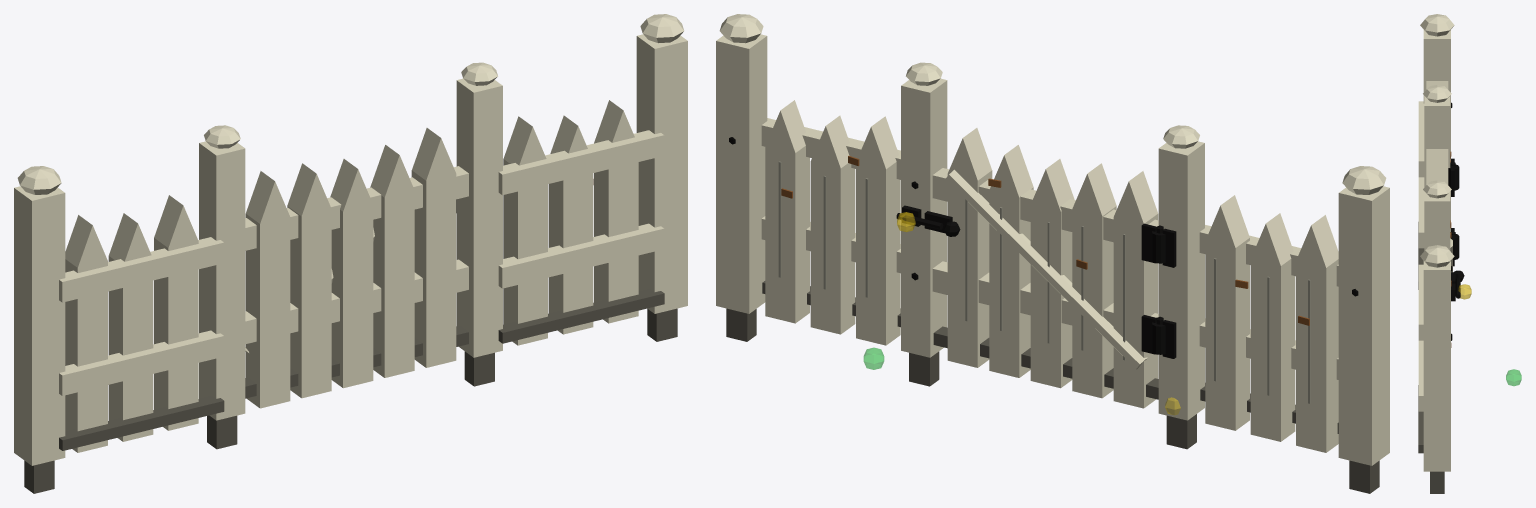
The model's file is modular_picket_fence_panel_closed_gate.obj.
The picture shows the model from 3 angles, left to right: view 1: azimuth 30°, elevation 25°; view 2: azimuth 150°, elevation 25°; view 3: azimuth 270°, elevation 25°; orthographic projection. The views are drawn at different scales.
Visible parts, largest first — view 1: Left_end_square_fence_post, Right_end_square_fence_post, Gate_right_latch_post, Gate_left_hinge_post, Closed_gate_Picket_01_rect_board, Closed_gate_Picket_05_rect_board, Closed_gate_Picket_02_rect_board, Closed_gate_Picket_04_rect_board, Closed_gate_Picket_03_rect_board, Left_fixed_side_panel_Picket_03_rect_board, Left_fixed_side_panel_Picket_02_rect_board, Right_fixed_side_panel_Picket_02_rect_board (+29 smaller); view 2: Left_end_square_fence_post, Right_end_square_fence_post, Gate_left_hinge_post, Gate_right_latch_post, Left_fixed_side_panel_Picket_03_rect_board, Left_fixed_side_panel_Picket_02_rect_board, Left_fixed_side_panel_Picket_01_rect_board, Right_fixed_side_panel_Picket_01_rect_board, Right_fixed_side_panel_Picket_02_rect_board, Right_fixed_side_panel_Picket_03_rect_board, Closed_gate_Picket_05_rect_board, Closed_gate_Picket_01_rect_board (+25 smaller); view 3: Right_end_square_fence_post, Left_end_square_fence_post, Gate_left_hinge_post, Gate_right_latch_post, Left_end_square_fence_post_rounded_cap, Right_end_square_fence_post_rounded_cap, Left_fixed_side_panel_upper_back_rail, Left_fixed_side_panel_lower_back_rail, Right_fixed_side_panel_upper_back_rail, Right_fixed_side_panel_lower_back_rail, Closed_gate_Picket_01_pointed_cap, Gate_right_latch_post_rounded_cap (+9 smaller).
Boxes of the visible parts, x1,y1,x2,y2 form: Left_end_square_fence_post: (14,186,65,465); Right_end_square_fence_post: (636,34,687,313); Gate_right_latch_post: (456,78,502,357); Gate_left_hinge_post: (199,141,245,420); Closed_gate_Picket_01_rect_board: (245,214,290,408); Closed_gate_Picket_05_rect_board: (411,170,456,367); Closed_gate_Picket_02_rect_board: (287,206,331,398); Closed_gate_Picket_04_rect_board: (373,190,414,377); Closed_gate_Picket_03_rect_board: (331,204,373,388); Left_fixed_side_panel_Picket_03_rect_board: (154,238,198,430); Left_fixed_side_panel_Picket_02_rect_board: (108,256,153,441); Right_fixed_side_panel_Picket_02_rect_board: (548,173,593,334); Left_end_square_fence_post: (1338,186,1389,465); Right_end_square_fence_post: (716,34,767,313); Gate_left_hinge_post: (1158,141,1204,420); Gate_right_latch_post: (901,78,947,357); Left_fixed_side_panel_Picket_03_rect_board: (1205,238,1249,430); Left_fixed_side_panel_Picket_02_rect_board: (1250,259,1295,441); Left_fixed_side_panel_Picket_01_rect_board: (1296,259,1338,452); Right_fixed_side_panel_Picket_01_rect_board: (856,162,900,345); Right_fixed_side_panel_Picket_02_rect_board: (810,161,855,334); Right_fixed_side_panel_Picket_03_rect_board: (765,146,809,323); Closed_gate_Picket_05_rect_board: (947,170,992,367); Closed_gate_Picket_01_rect_board: (1113,214,1158,408); Right_end_square_fence_post: (1423,261,1450,471); Left_end_square_fence_post: (1423,30,1450,231); Gate_left_hinge_post: (1424,96,1450,187); Gate_right_latch_post: (1424,191,1450,250); Left_end_square_fence_post_rounded_cap: (1420,14,1454,36); Right_end_square_fence_post_rounded_cap: (1420,245,1454,267); Left_fixed_side_panel_upper_back_rail: (1418,101,1424,177); Left_fixed_side_panel_lower_back_rail: (1418,177,1424,248); Right_fixed_side_panel_upper_back_rail: (1418,264,1423,340); Right_fixed_side_panel_lower_back_rail: (1418,340,1423,411); Closed_gate_Picket_01_pointed_cap: (1426,149,1448,166); Gate_right_latch_post_rounded_cap: (1423,180,1451,198).
Size of what is drawn, in the model's own units: 3.19 by 1.47 by 0.5683.
